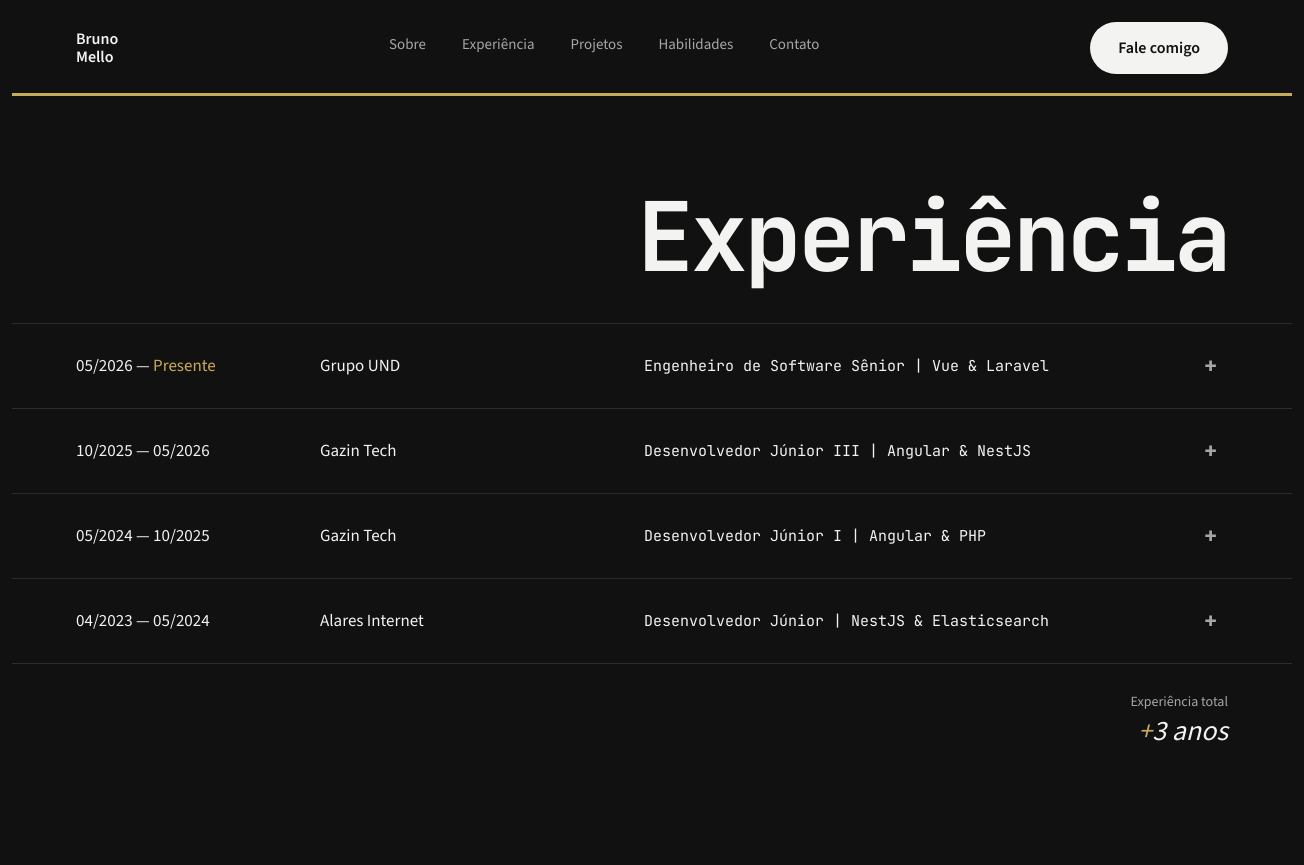
Home page › has no statement band, and keeps the Serasa/SPC/Unico integration in the work history (SIG-128)
(page scrolled)
The integration is one click away: the Gazin Tech (Júnior III) row lists it when expanded.
Click the 4th button: click(652, 450) [12, 408, 1292, 492]
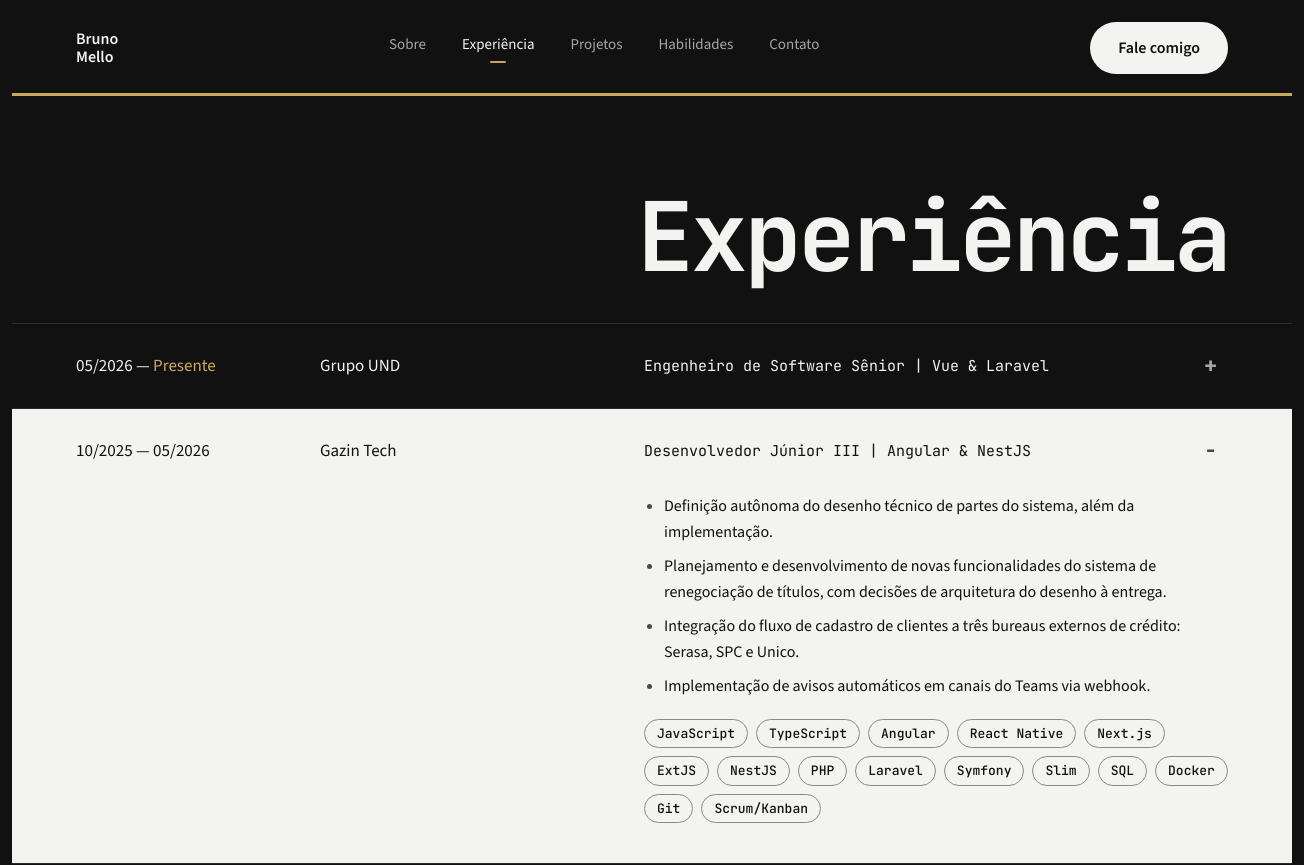
Expected: the list item "Integração do fluxo de cadastro de clientes a três bureaus externos de crédito: Serasa, SPC e Unico." is shown, [664, 614, 1181, 662]
